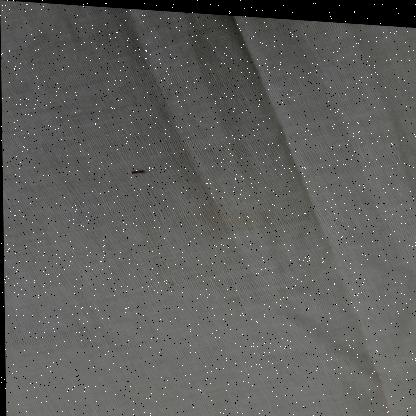spot: (178, 200, 260, 242), (159, 276, 179, 286)
